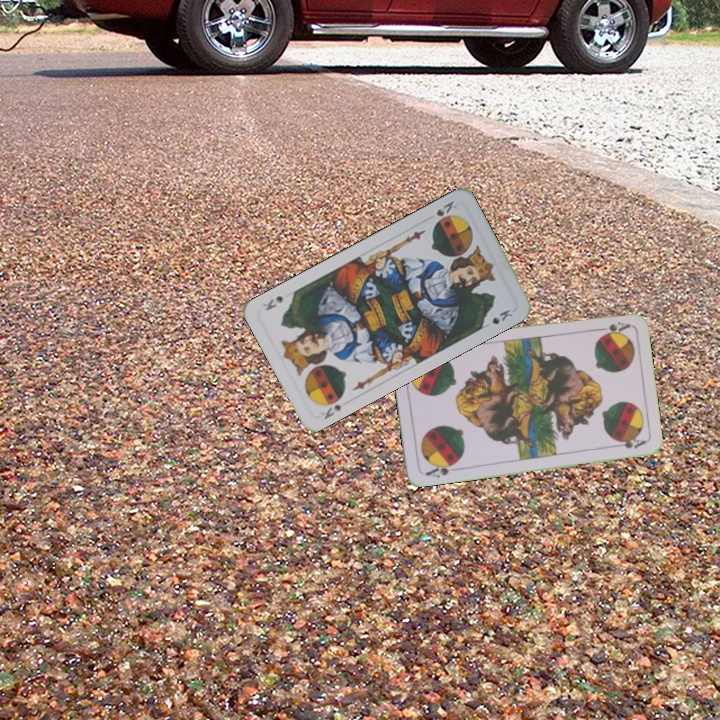SA: (422, 458, 460, 480), (592, 318, 632, 337)
SK: (317, 390, 347, 422), (432, 196, 460, 219)
